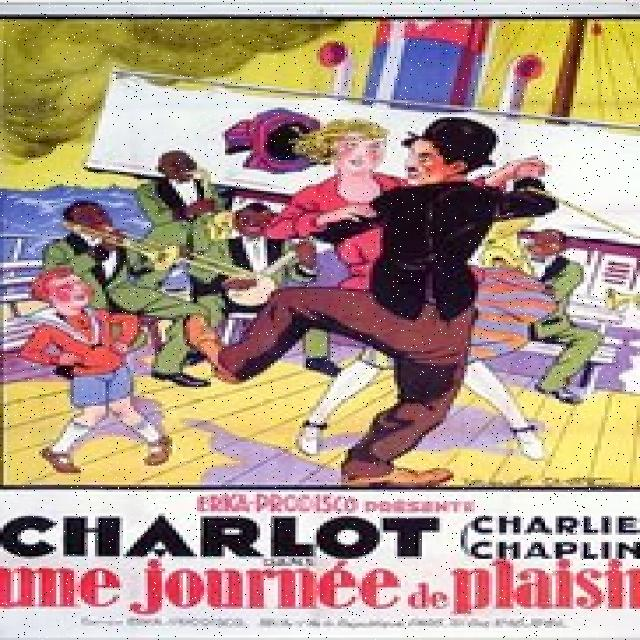movie-judul: (0, 510, 640, 614)
picture: (25, 104, 616, 476)
